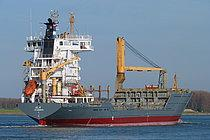Ship: (18, 6, 196, 128)
